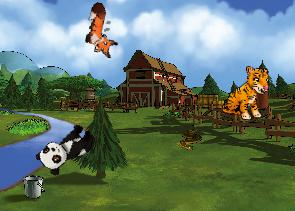fox: (80, 1, 125, 59)
panda: (33, 117, 99, 179)
tiger: (221, 64, 271, 122)
